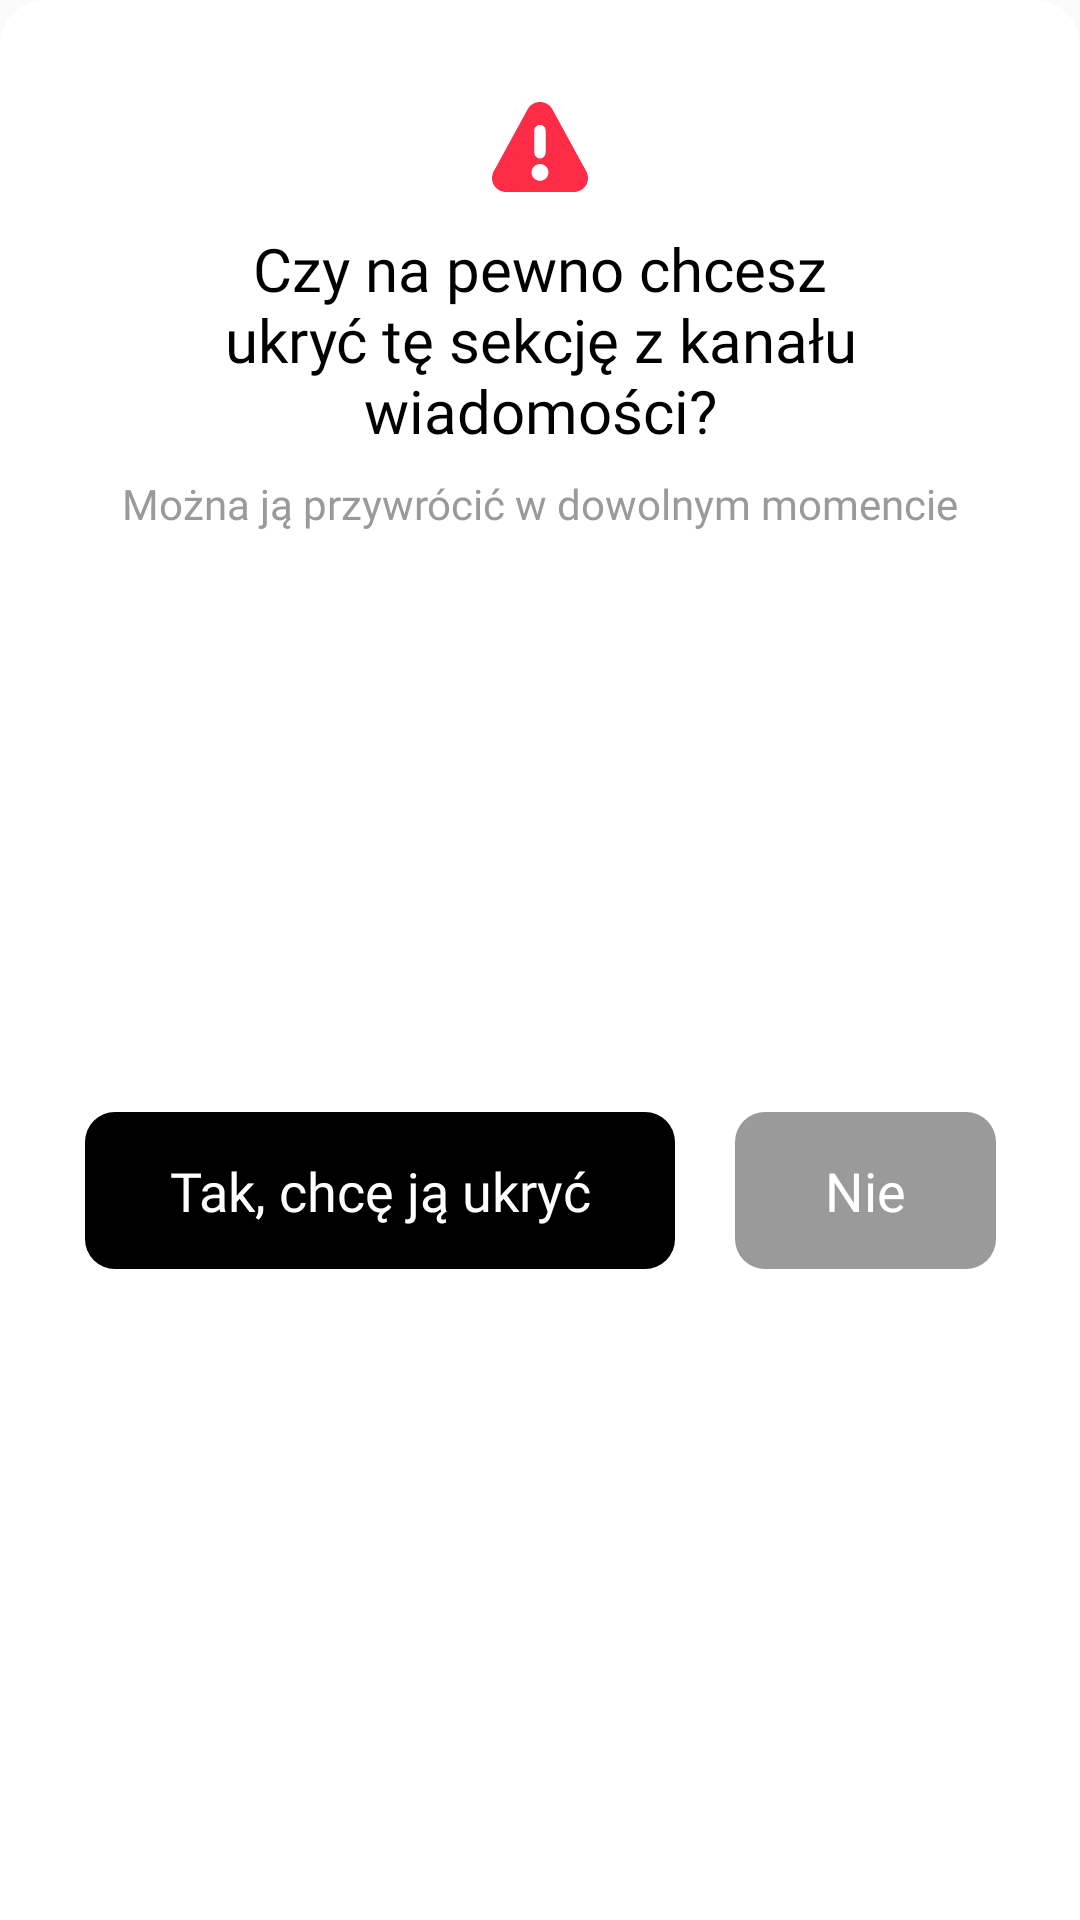

Screen size 1080 × 1920. Icon name, then its box in pixels as (x1, y1, x2, y2):
attention: (492, 102, 588, 192)
